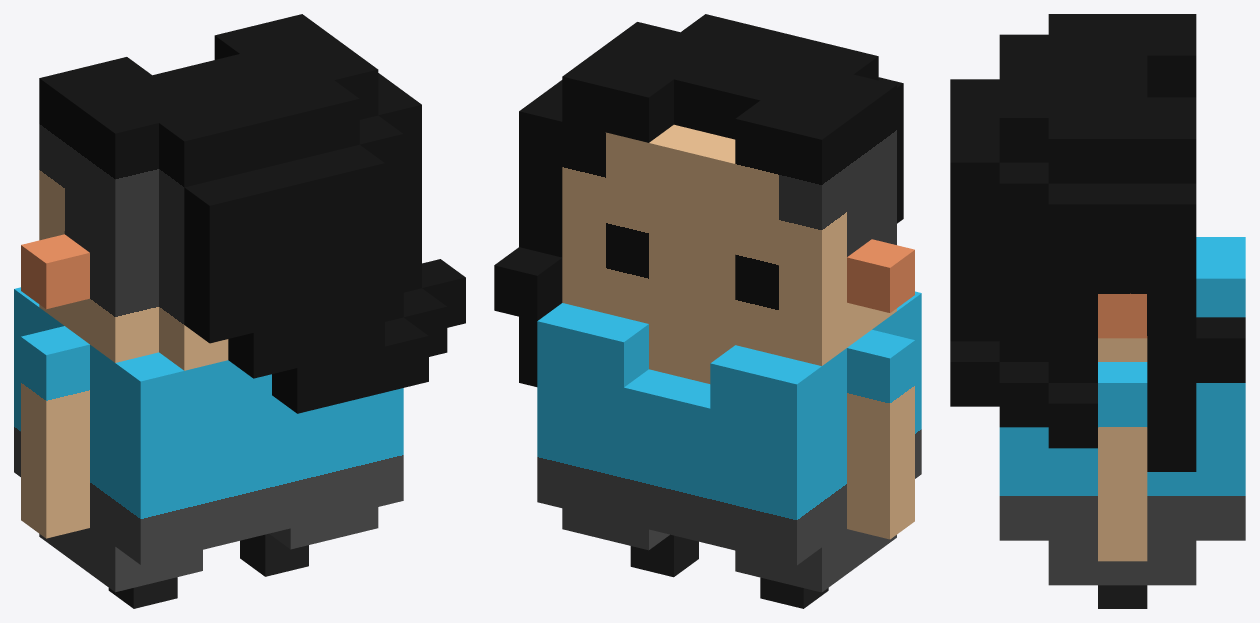
Rendered from chr_lady2.obj.
3 views of the same model, side by side, from view 1: azimuth 30°, elevation 25°; view 2: azimuth 150°, elevation 25°; view 3: azimuth 270°, elevation 25° (orthographic). The views are drawn at different scales.
Parts seen in each view (by area): view 1: chr_lady2_Plane-tex.002; view 2: chr_lady2_Plane-tex.002; view 3: chr_lady2_Plane-tex.002.
Part boxes in pixels (x1,y1,x2,y2): chr_lady2_Plane-tex.002: [14, 14, 465, 608]; chr_lady2_Plane-tex.002: [494, 14, 921, 608]; chr_lady2_Plane-tex.002: [950, 14, 1245, 608].
Size of the model in its own units: 0.9 by 1.1 by 0.6.
1 material, 1 textured.
